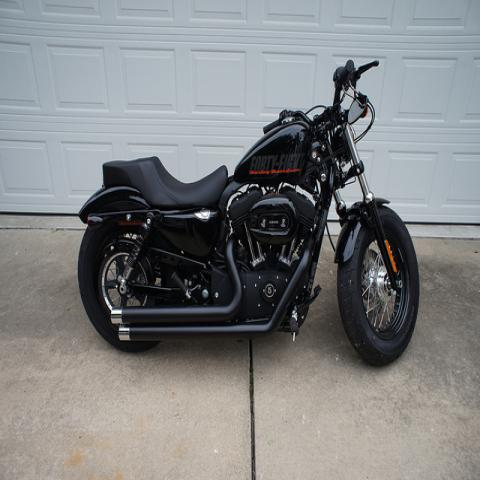motorcycle: (71, 53, 422, 367)
